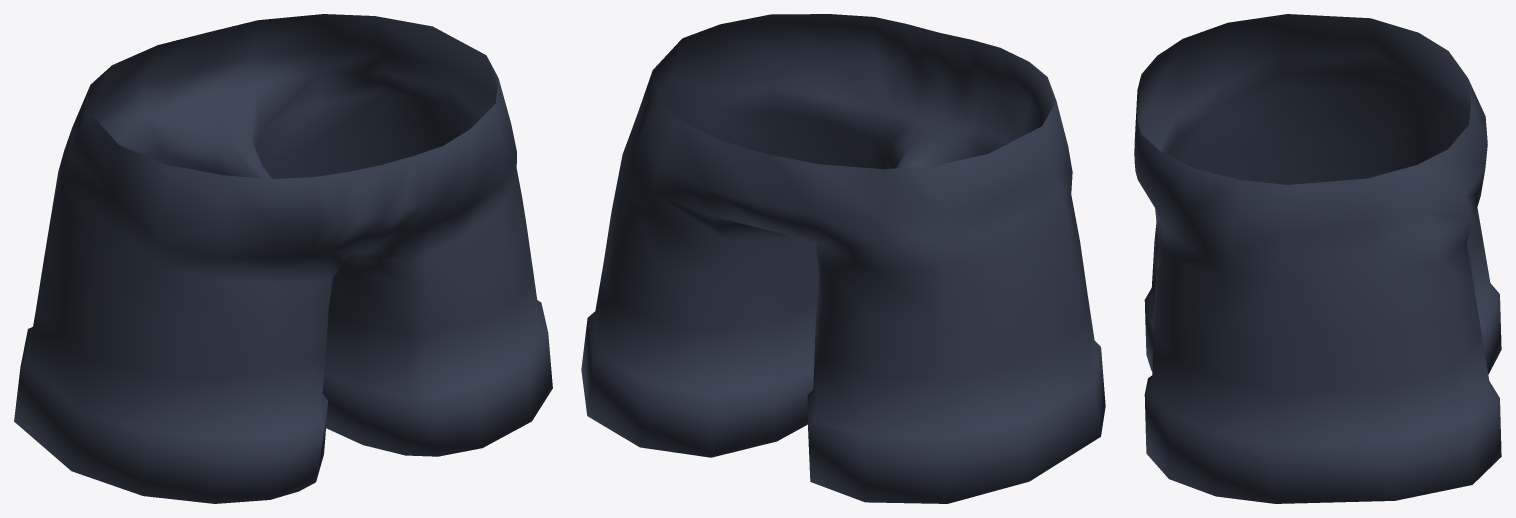
The model's file is sailor-school-pants.glb.
3 renders of one model, left to right at view 1: azimuth 30°, elevation 25°; view 2: azimuth 150°, elevation 25°; view 3: azimuth 270°, elevation 25°, orthographic. The views are drawn at different scales.
Parts seen in each view (by area): view 1: Sailor_pants; view 2: Sailor_pants; view 3: Sailor_pants.
Boxes of the visible parts, x1,y1,x2,y2 form: Sailor_pants: (14, 14, 552, 503); Sailor_pants: (581, 14, 1105, 503); Sailor_pants: (1134, 14, 1501, 503).
Bounding box in the file's own units: 0.9799 × 0.6386 × 0.6885.
